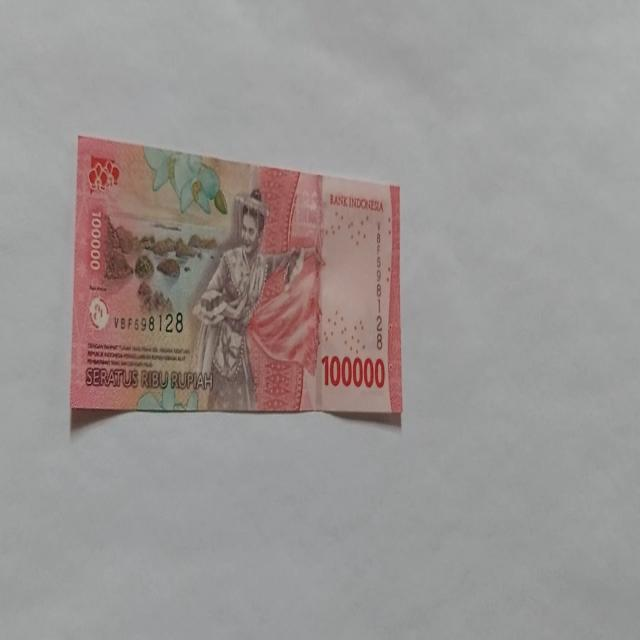seratus ribu rupiah: (70, 135, 402, 420), (189, 188, 306, 412)
